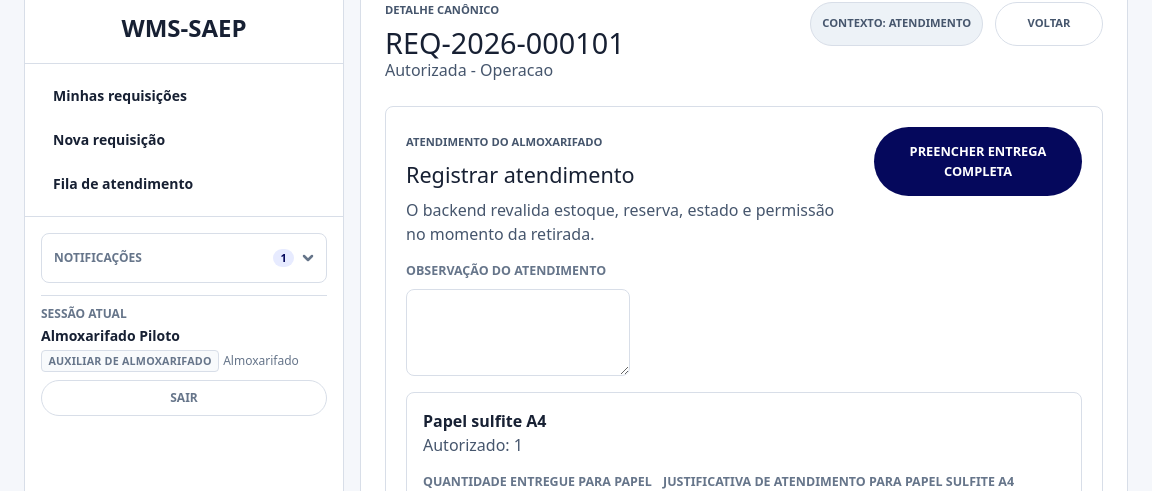
Test: frontend pilot router › keeps user on detail when fulfillment action returns domain error
Check: the heading "REQ-2026-000101" is shown, box [385,27,625,58]
Click the button "Preencher entrega completa".
click(978, 162)  # box [874,127,1082,196]
(page scrolled)
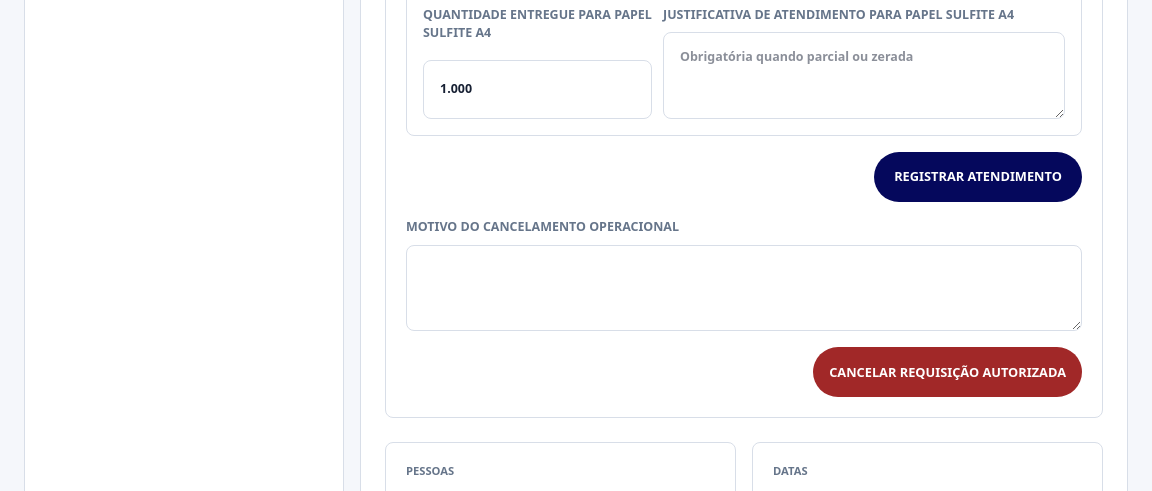
Click the button "Registrar atendimento".
click(978, 177)  # box [874,152,1082,202]
(page scrolled)
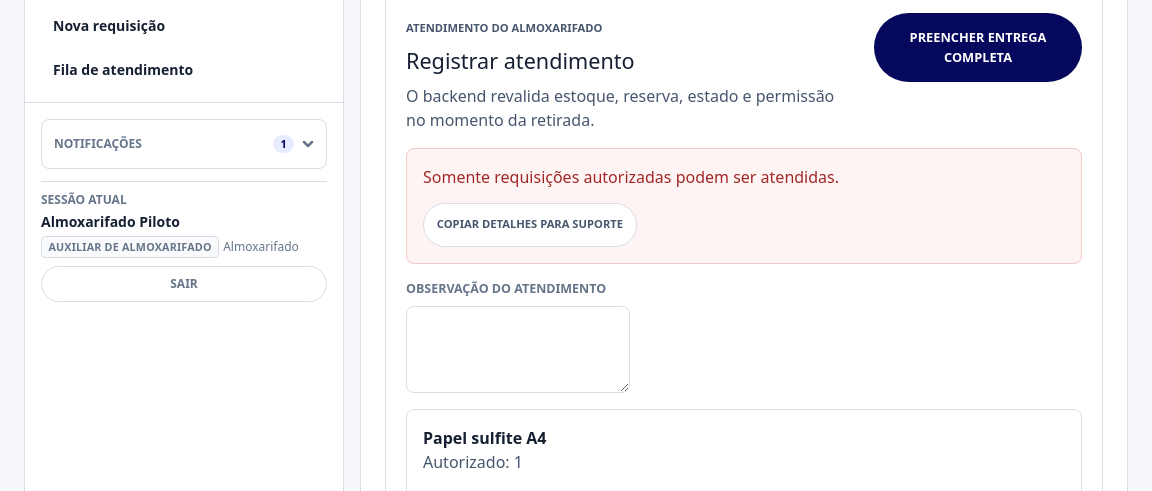
Check: the text "Somente requisições autorizadas podem ser atendidas." is shown, box [423,166,839,188]
